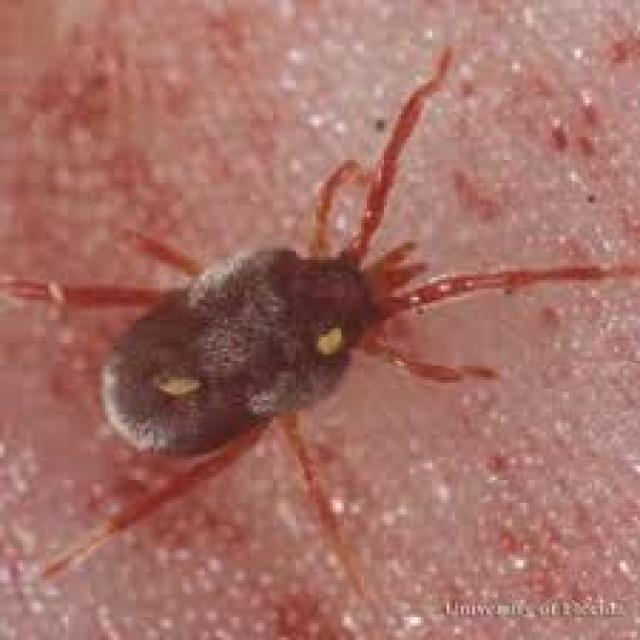Mites: (6, 32, 631, 584)
